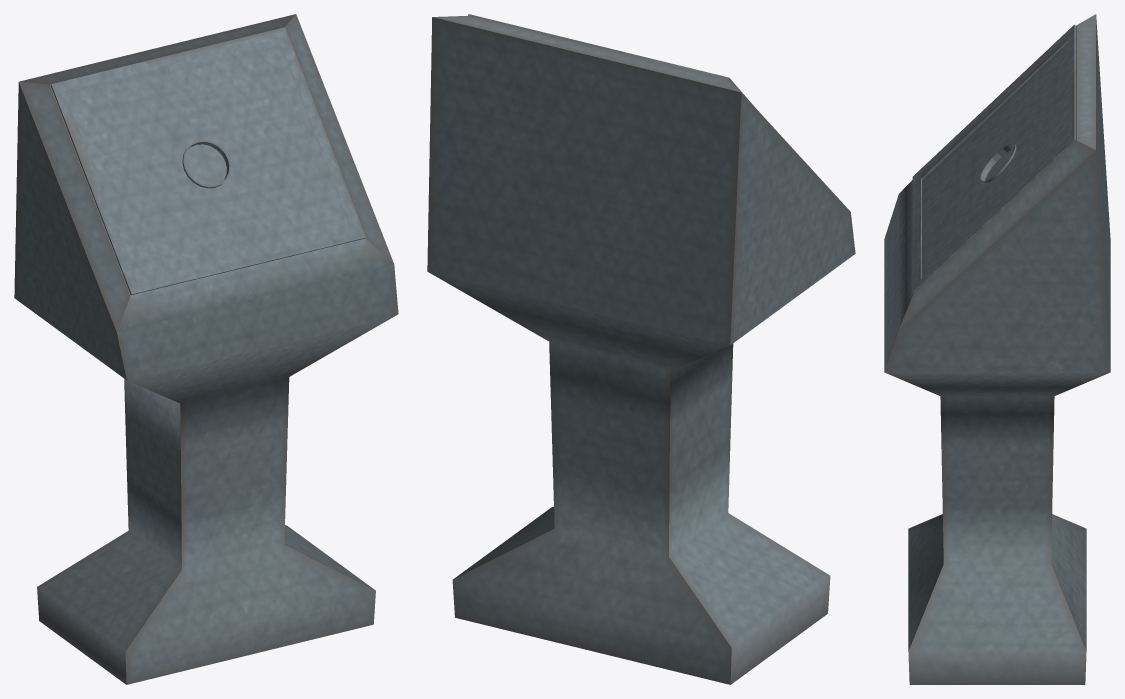
File: Console_Right_Panel_Base.fbx
The picture shows the model from 3 angles, left to right: view 1: azimuth 30°, elevation 25°; view 2: azimuth 150°, elevation 25°; view 3: azimuth 270°, elevation 25°; orthographic projection. The views are drawn at different scales.
Parts seen in each view (by area): view 1: Right_Console_Base1; view 2: Right_Console_Base1; view 3: Right_Console_Base1.
Part boxes in pixels (x1=…): Right_Console_Base1: x1=14, y1=14, x2=398, y2=684; Right_Console_Base1: x1=427, y1=14, x2=855, y2=684; Right_Console_Base1: x1=884, y1=14, x2=1110, y2=684.
Bounding box in the file's own units: 576 × 1069 × 404.
